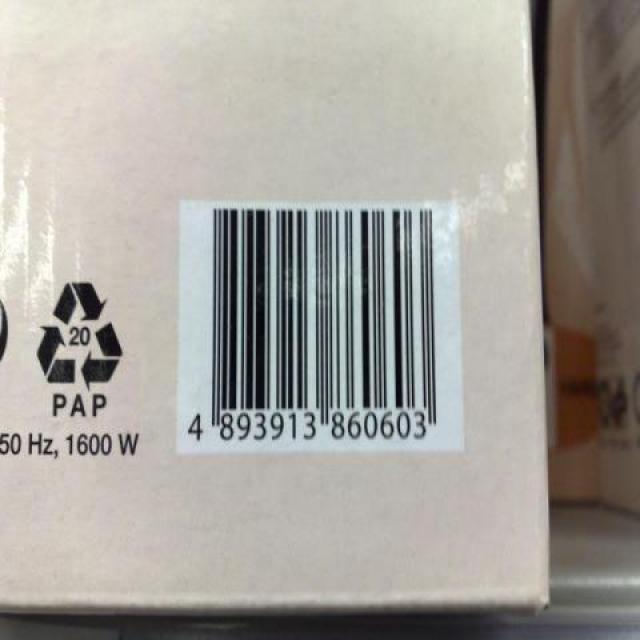Barcode: (182, 198, 461, 451)
